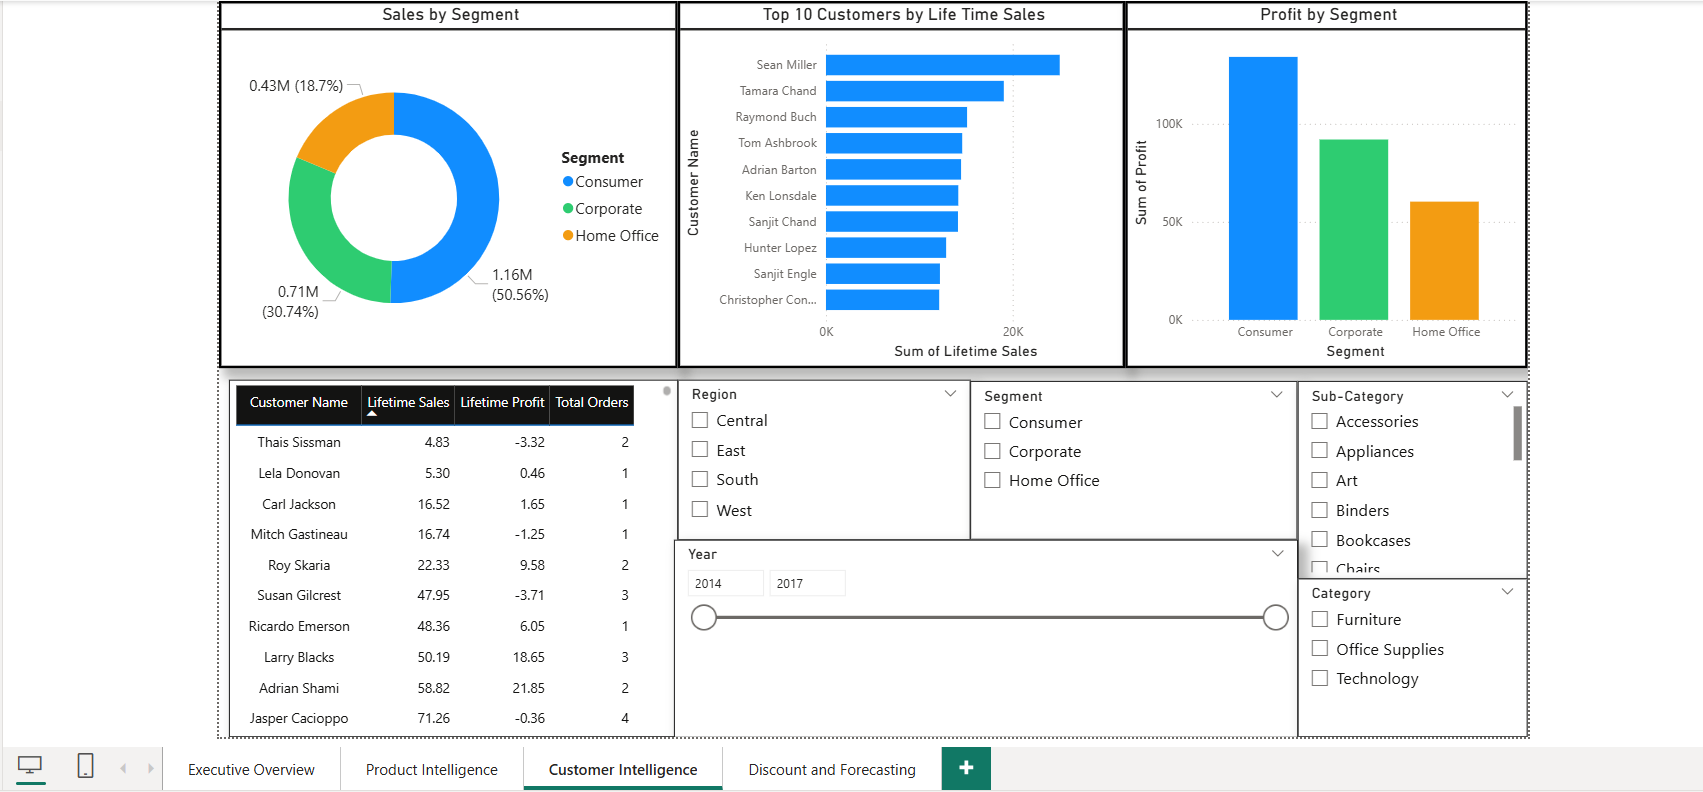

Layout of this report page (visuals, bound fields, positions):
{"tool":"powerbi","page":{"name":"Customer Intelligence","canvas":[1280,720],"ordinal":2},"visuals":[{"type":"donutChart","title":"Sales by Segment","fields":{"Y":["Sum(Retail_Sales_Cleaned.Sales)"],"Category":["Retail_Sales_Cleaned.Segment"]},"box":[9.6,0,439.1,359.5],"z":0},{"type":"clusteredBarChart","title":"Top 10 Customers by Life Time Sales","fields":{"Category":["Customer_Analysis.Customer Name"],"Y":["Sum(Customer_Analysis.Lifetime Sales)"]},"box":[448.7,0,437.7,359.5],"z":1000},{"type":"clusteredColumnChart","title":"Profit by Segment","fields":{"Category":["Retail_Sales_Cleaned.Segment"],"Y":["Sum(Retail_Sales_Cleaned.Profit)"]},"box":[886.5,0,393.8,359.5],"z":2000},{"type":"tableEx","fields":{"Values":["Customer_Analysis.Customer Name","Customer_Analysis.Lifetime Sales","Customer_Analysis.Lifetime Profit","Customer_Analysis.Total Orders"]},"box":[9.6,370.5,439.1,349.9],"z":3000},{"type":"slicer","fields":{"Values":["Retail_Sales_Cleaned.Region"]},"box":[448.7,370.5,286.8,156.4],"z":4000},{"type":"slicer","fields":{"Values":["Retail_Sales_Cleaned.Segment"]},"box":[735.5,371.9,319.7,155.1],"z":5000},{"type":"slicer","fields":{"Values":["Retail_Sales_Cleaned.Sub-Category"]},"box":[1055,371.9,225,193.5],"z":6000},{"type":"slicer","fields":{"Values":["Retail_Sales_Cleaned.Year"]},"box":[444.6,526.9,610.6,193.5],"z":7000},{"type":"slicer","fields":{"Values":["Retail_Sales_Cleaned.Category"]},"box":[1055.2,565.4,225,155.1],"z":8000}]}

Visuals, with their boxes on the page's 1280x720 design canvas (x1, y1, x2, y2). These are canvas units, not pixel positions in the 1703x792 screenshot, which may show the page scaled, cropped or inside an application window:
"Sales by Segment" donutChart: locate(10, 0, 449, 360)
"Top 10 Customers by Life Time Sales" clusteredBarChart: locate(449, 0, 886, 360)
"Profit by Segment" clusteredColumnChart: locate(886, 0, 1280, 360)
tableEx - Customer_Analysis.Customer Name x Customer_Analysis.Lifetime Sales: locate(10, 370, 449, 720)
slicer - Retail_Sales_Cleaned.Region: locate(449, 370, 736, 527)
slicer - Retail_Sales_Cleaned.Segment: locate(736, 372, 1055, 527)
slicer - Retail_Sales_Cleaned.Sub-Category: locate(1055, 372, 1280, 565)
slicer - Retail_Sales_Cleaned.Year: locate(445, 527, 1055, 720)
slicer - Retail_Sales_Cleaned.Category: locate(1055, 565, 1280, 720)
